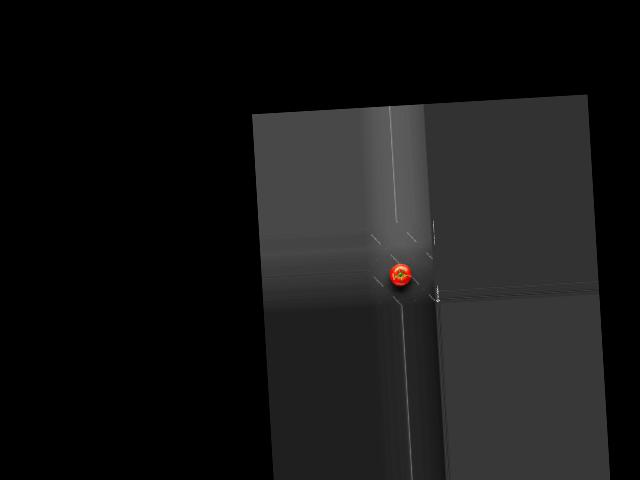tomato: (389, 262, 412, 286)
